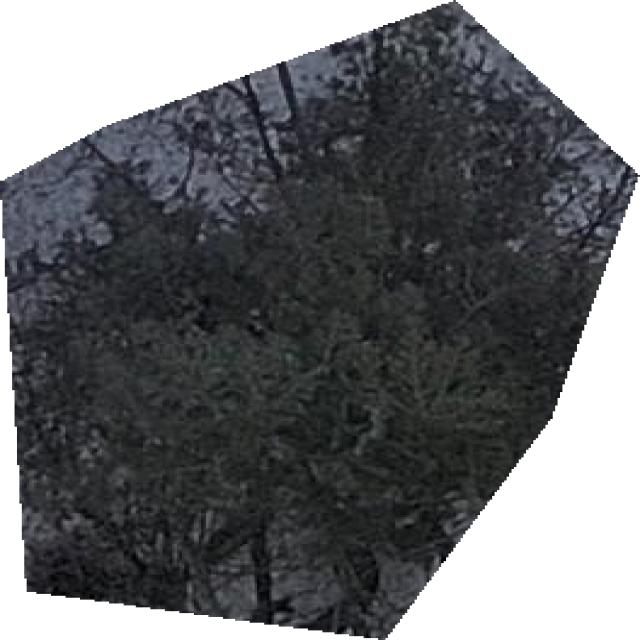spruce: (0, 2, 638, 638)
